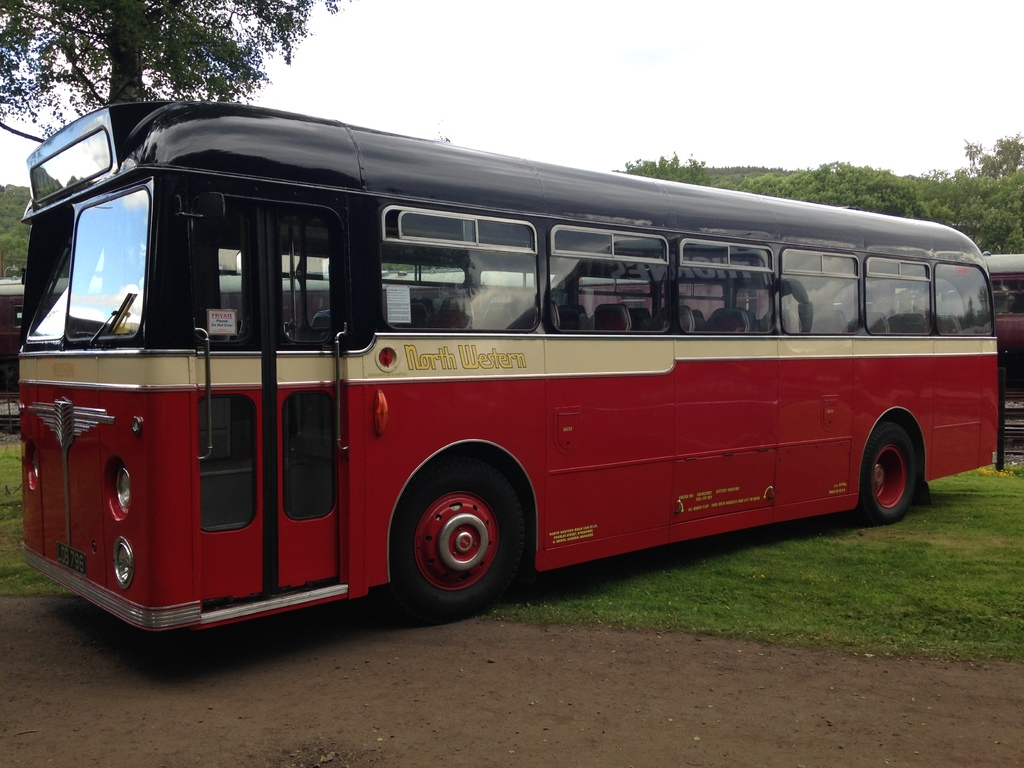Bus: (17, 99, 997, 638)
